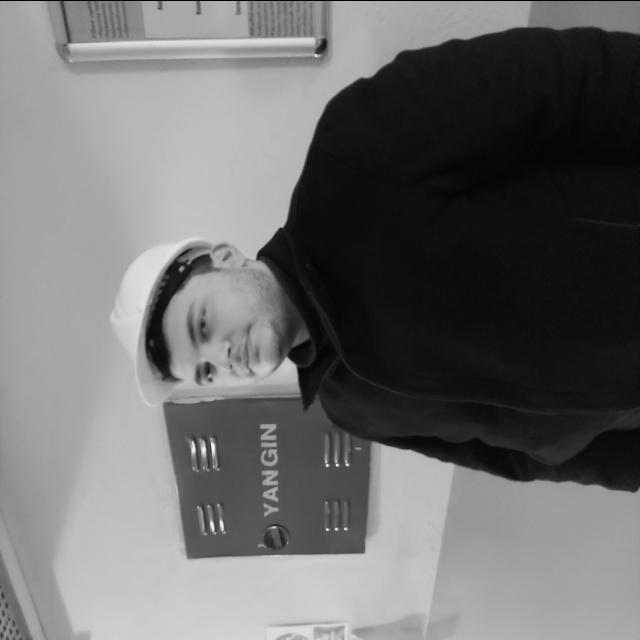safety_helmet: (110, 236, 213, 407)
